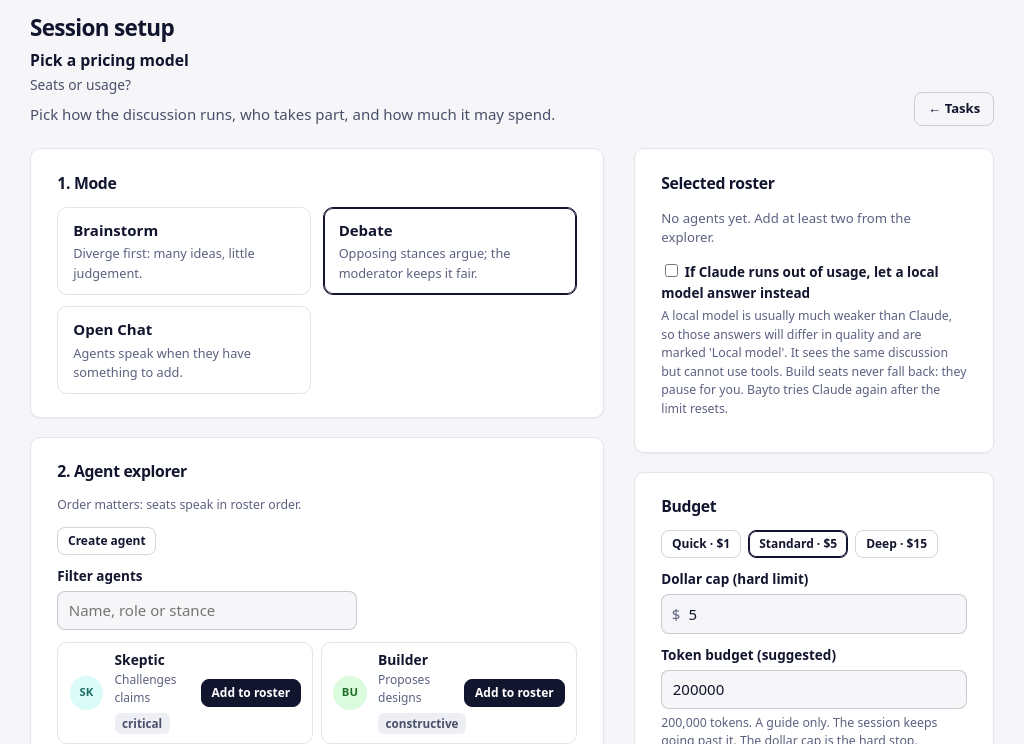
UX-15 budget guidance › highlights the preset and offers a suggested cap when the estimate exceeds it
Expected: the text "Pick a pricing model" is shown, x1=30 y1=48 x2=189 y2=70
Click the button "Add to roster" below "Skeptic" at (251, 693), box x1=201 y1=679 x2=301 y2=707
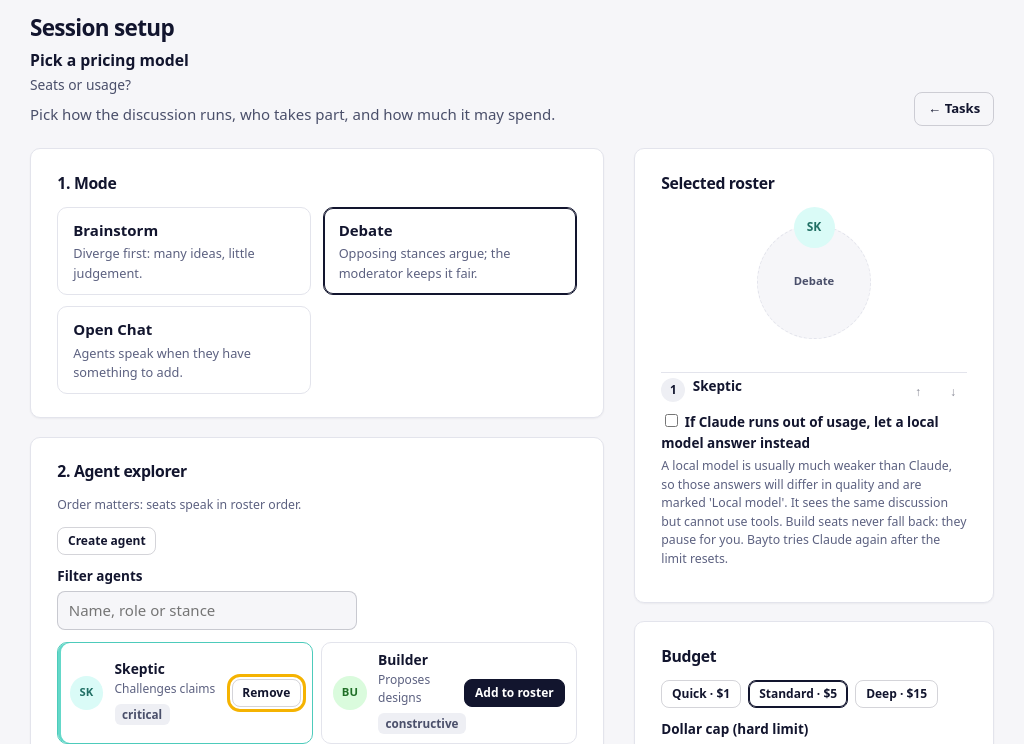
Click the button "Add to roster" at (514, 693), box x1=464 y1=679 x2=564 y2=707
(page scrolled)
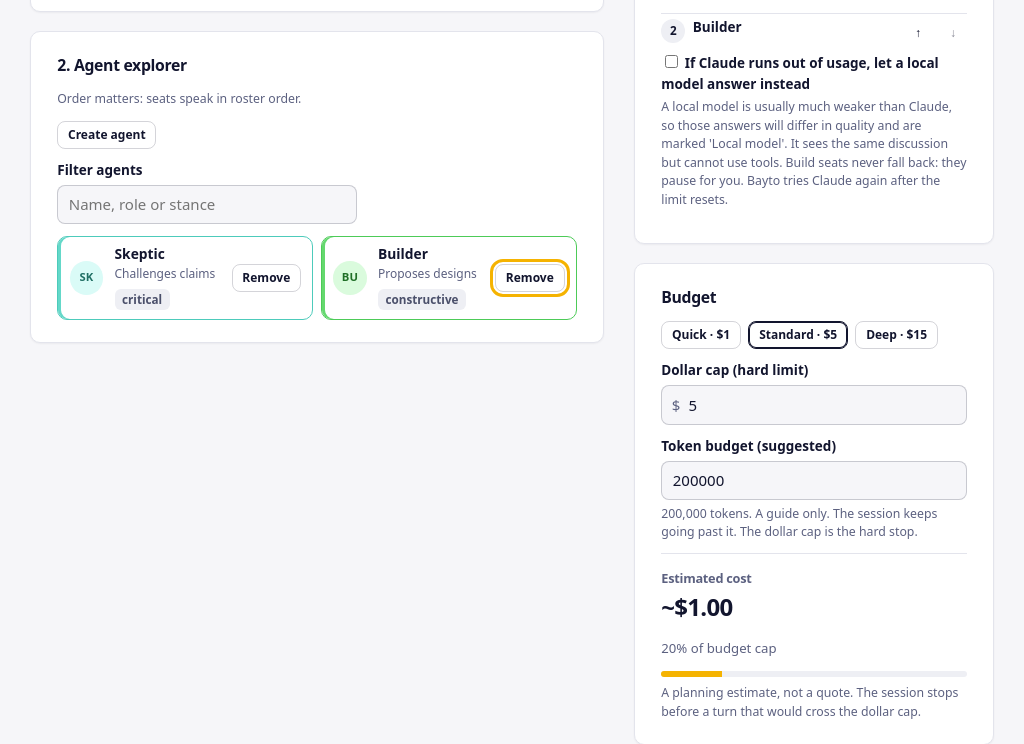
Replace the text in the number field labelled "Dollar cap (hard limit)" with "0.2" at (814, 405), box x1=661 y1=385 x2=967 y2=425
(page scrolled)
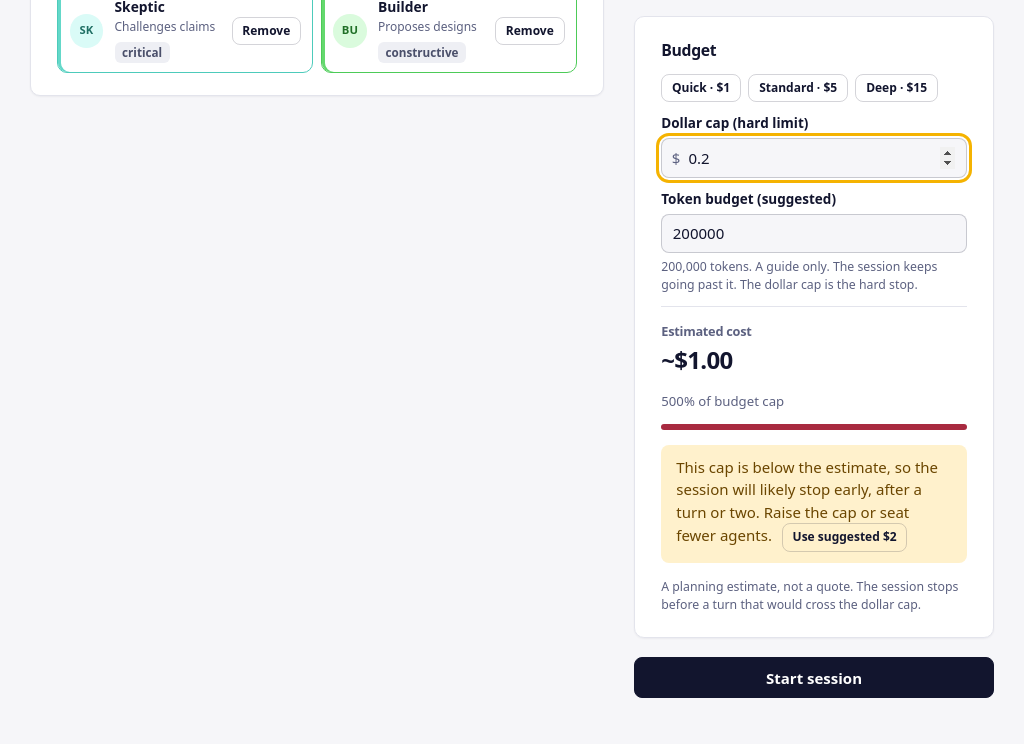
Click the button "Use suggested $2" at (845, 538), box x1=782 y1=524 x2=907 y2=552
(page scrolled)
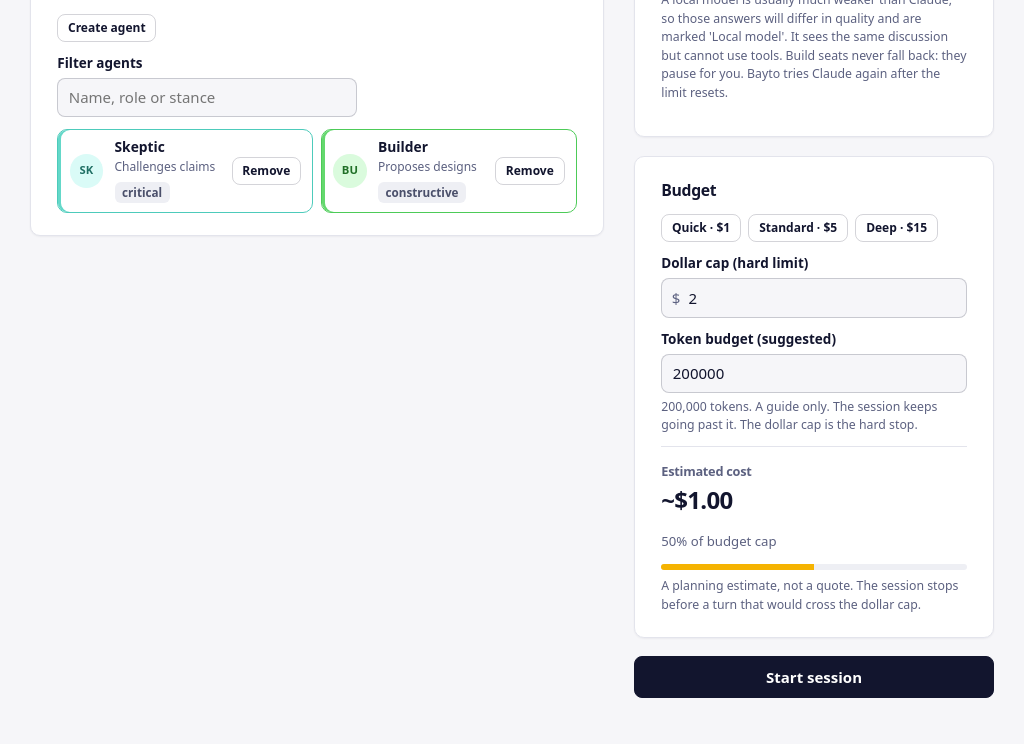
Result: the button "Start session" is enabled at x1=634 y1=656 x2=994 y2=698
Result: the number field labelled "Dollar cap (hard limit)" holds "2" at x1=661 y1=278 x2=967 y2=318
